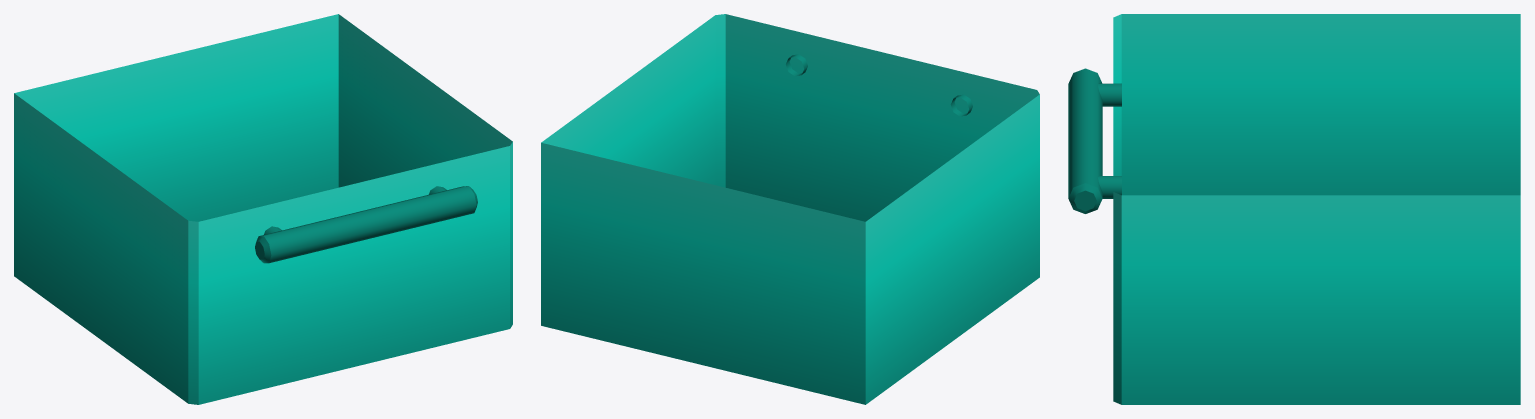
Rendered from Counter_01_v03_C05.fbx.
The picture shows the model from 3 angles, left to right: view 1: azimuth 30°, elevation 25°; view 2: azimuth 150°, elevation 25°; view 3: azimuth 270°, elevation 25°; orthographic projection. The views are drawn at different scales.
Visible parts, largest first — view 1: Counter_01_v03_C05; view 2: Counter_01_v03_C05; view 3: Counter_01_v03_C05.
Part boxes in pixels (x1,y1,x2,y2): Counter_01_v03_C05: (14,14,512,404); Counter_01_v03_C05: (541,14,1039,404); Counter_01_v03_C05: (1068,14,1520,404).
Bounding box in the file's own units: 100 × 53.91 × 105.
